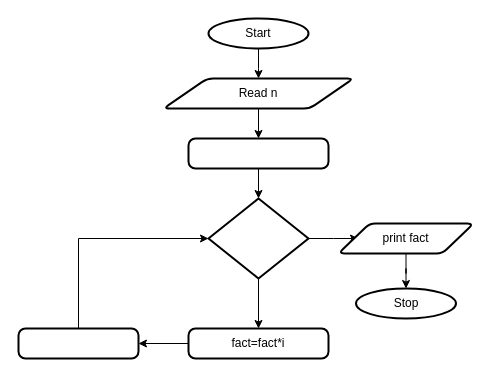
The diagram is 496 pixels wide and 376 high, and some of its shapes have lost their labels. Here are the shapes that lost their labels. From the top down, the box of each, then its label:
(187, 137, 329, 169): i=1, fact=1
(207, 197, 309, 279): i<=n
(17, 327, 139, 359): i=i+1
